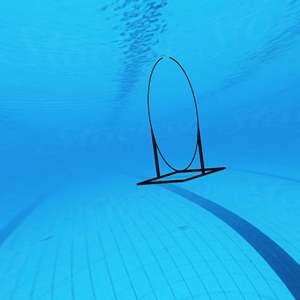circle: (134, 52, 231, 187)
